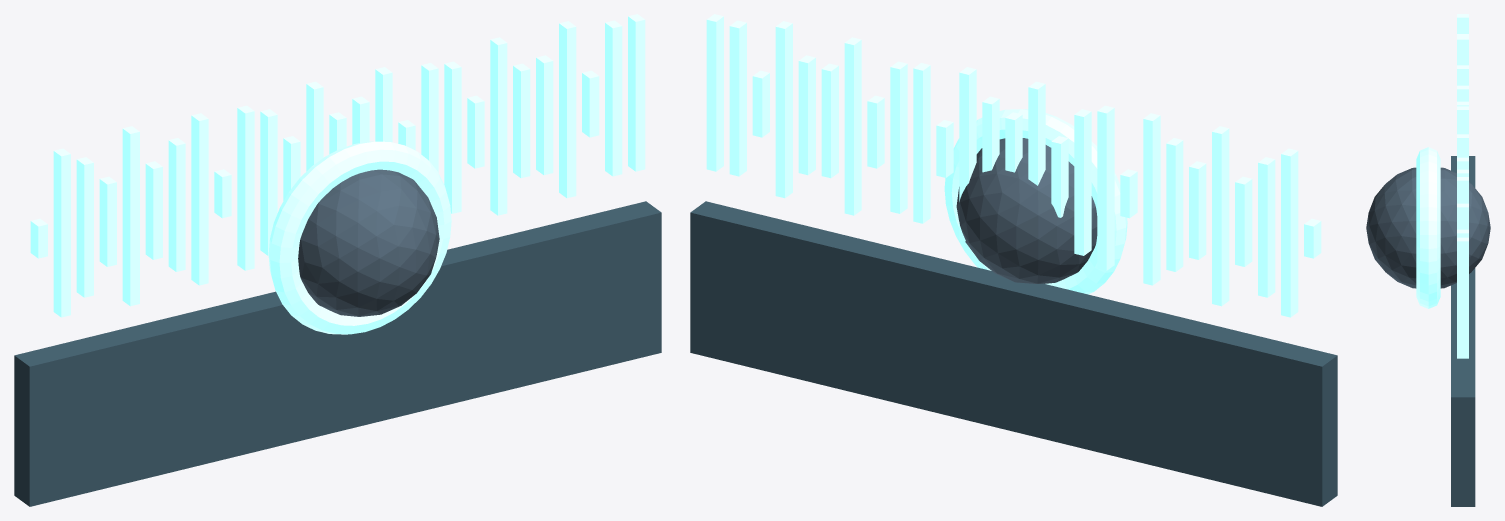
The model's file is plan_06.glb.
3 views of the same model, side by side, from view 1: azimuth 30°, elevation 25°; view 2: azimuth 150°, elevation 25°; view 3: azimuth 270°, elevation 25° (orthographic). The views are drawn at different scales.
Parts seen in each view (by area): view 1: voice_console, mic_body, mic_ring, wave4, wave20, wave23, wave7, wave1, wave9, wave26, wave25, wave18 (+15 smaller); view 2: voice_console, mic_body, mic_ring, wave4, wave20, wave23, wave7, wave1, wave9, wave17, wave26, wave25 (+17 smaller); view 3: mic_body, voice_console, mic_ring, wave26, wave4, wave12, wave20, wave23, wave15, wave7, wave1, wave9.
Part boxes in pixels (x1,y1,x2,y2): voice_console: [14, 201, 661, 506]; mic_body: [298, 169, 439, 316]; mic_ring: [268, 141, 451, 334]; wave4: [122, 126, 139, 306]; wave20: [490, 37, 507, 215]; wave23: [559, 21, 576, 198]; wave7: [191, 113, 208, 285]; wave1: [53, 148, 70, 317]; wave9: [237, 105, 254, 270]; wave26: [628, 14, 645, 171]; wave25: [605, 20, 622, 176]; wave18: [444, 61, 461, 213]; voice_console: [690, 201, 1337, 506]; mic_body: [956, 138, 1097, 283]; mic_ring: [944, 109, 1127, 294]; wave4: [1212, 126, 1229, 306]; wave20: [844, 37, 861, 215]; wave23: [775, 21, 792, 198]; wave7: [1143, 113, 1160, 285]; wave1: [1281, 148, 1298, 317]; wave9: [1097, 105, 1114, 270]; wave17: [913, 63, 930, 223]; wave26: [706, 14, 723, 171]; wave25: [729, 20, 746, 176]; mic_body: [1366, 167, 1490, 288]; voice_console: [1451, 156, 1475, 506]; mic_ring: [1416, 147, 1440, 308]; wave26: [1457, 237, 1468, 358]; wave4: [1457, 36, 1468, 65]; wave12: [1457, 106, 1468, 134]; wave20: [1457, 177, 1468, 203]; wave23: [1457, 203, 1468, 229]; wave15: [1457, 134, 1468, 157]; wave7: [1457, 65, 1468, 85]; wave1: [1457, 14, 1468, 33]; wave9: [1457, 85, 1468, 101].
Size of the model in its own units: 1.82 by 0.9485 by 0.3971.
